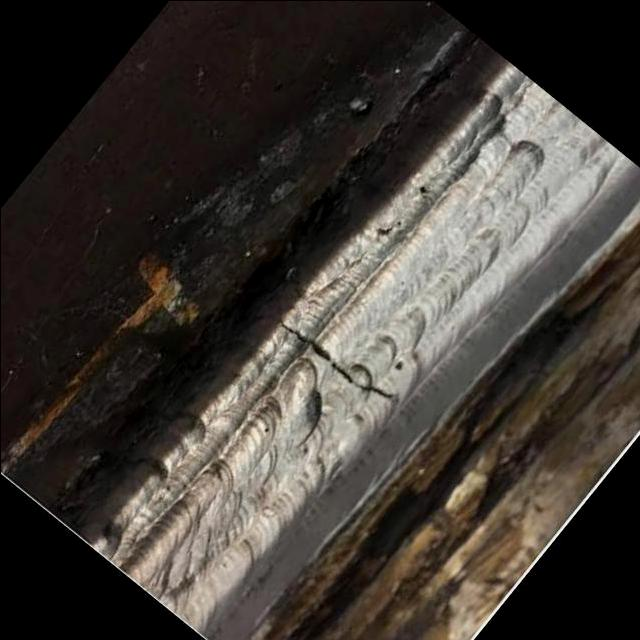defect: (274, 316, 395, 401)
